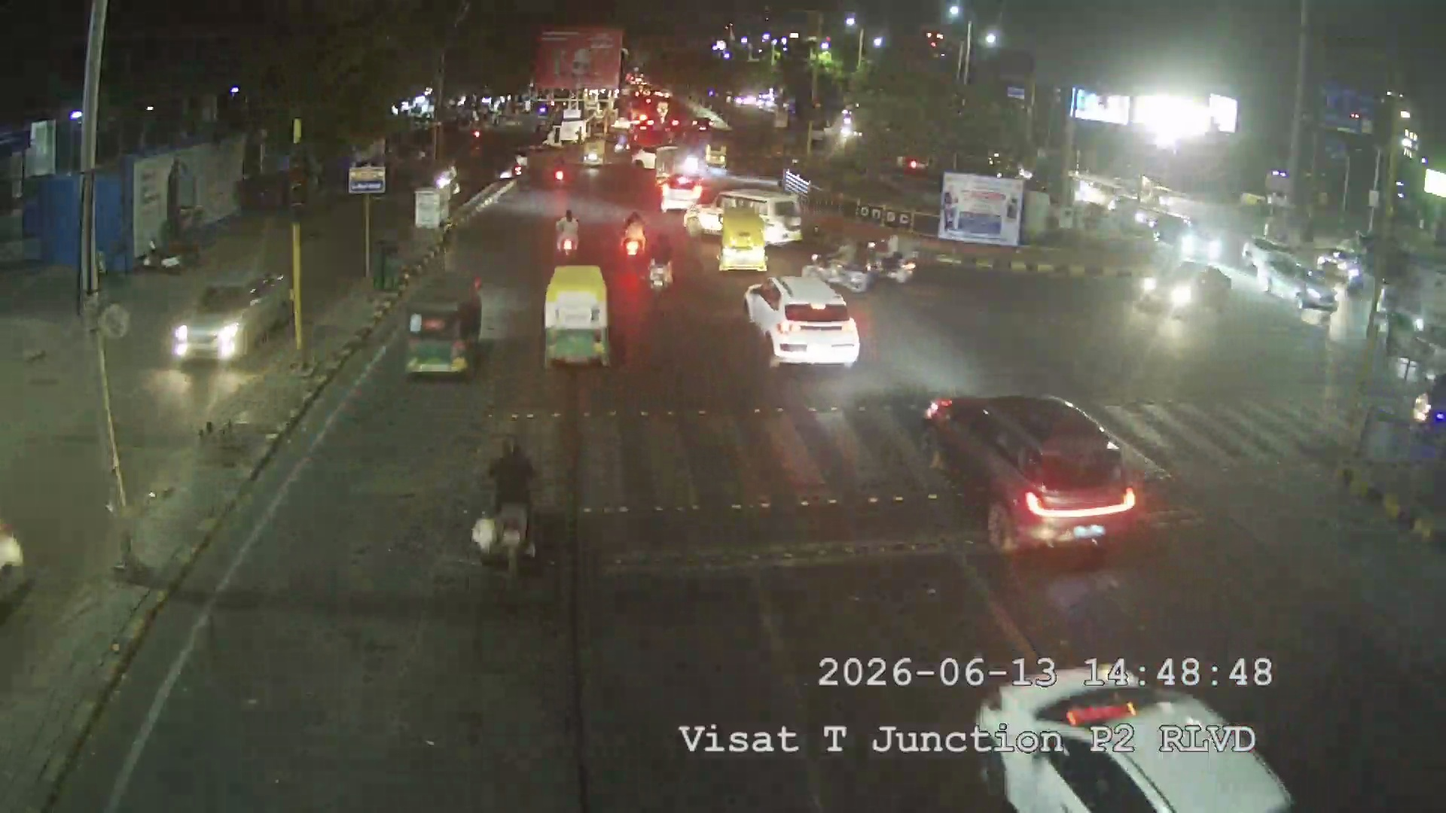auto_rickshaw: (401, 267, 488, 378), (542, 261, 609, 365), (738, 184, 807, 246), (715, 197, 776, 259), (716, 207, 770, 271), (580, 137, 607, 175)
car: (914, 385, 1145, 553), (167, 271, 303, 367), (737, 273, 864, 368), (0, 494, 34, 633), (660, 171, 706, 210)
two_wheeler: (464, 430, 541, 575), (0, 481, 30, 632), (551, 203, 585, 260), (616, 208, 650, 263), (646, 239, 677, 295)
